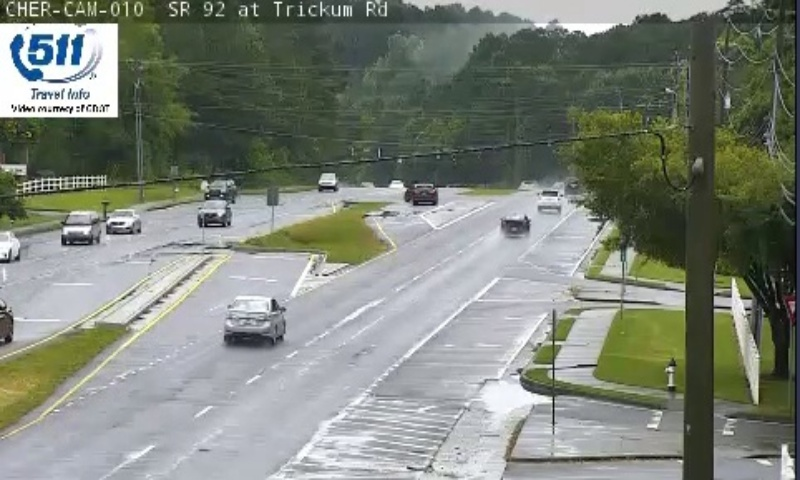car: (223, 296, 286, 340), (499, 212, 529, 238)
